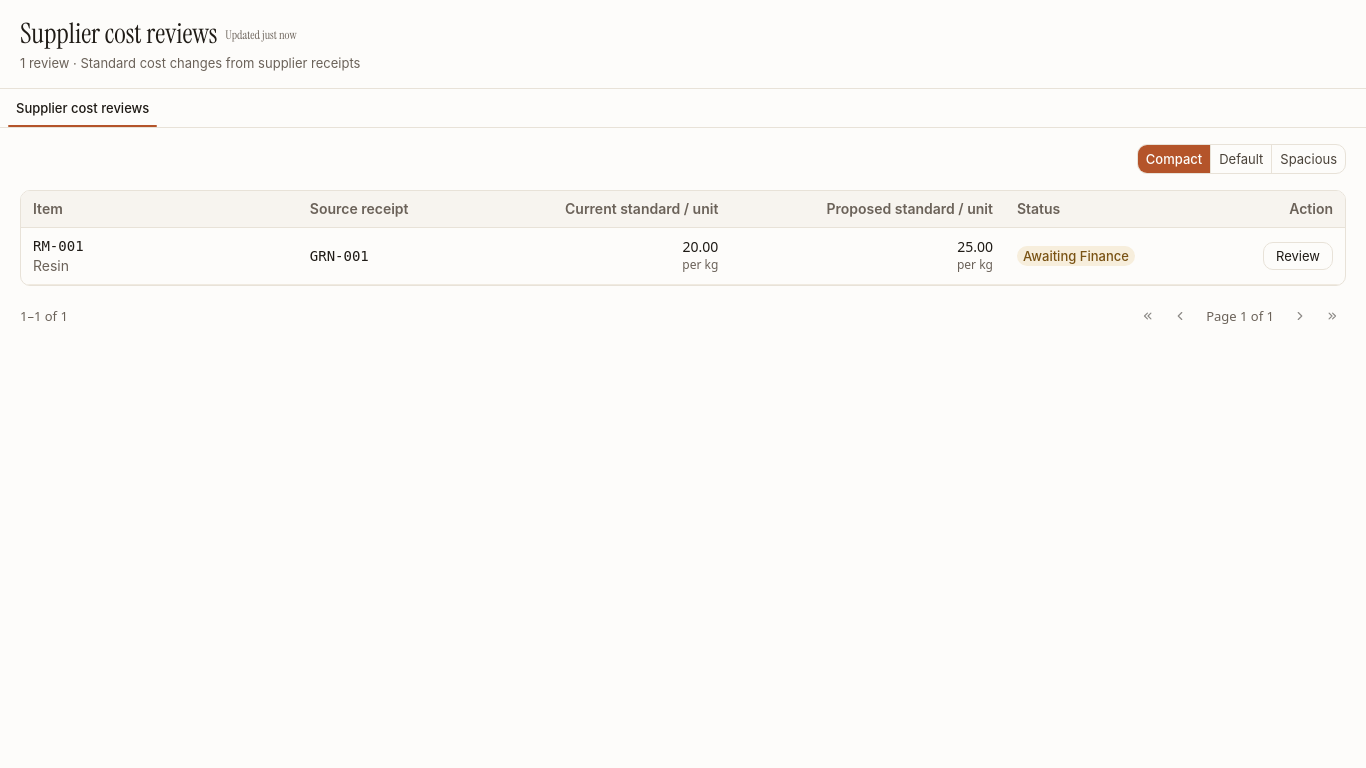
Test: preserves supplier review reason on failure and locks dialog dismissal during approval
Click the button "Review" at (1298, 256), box [1263,242,1333,270]
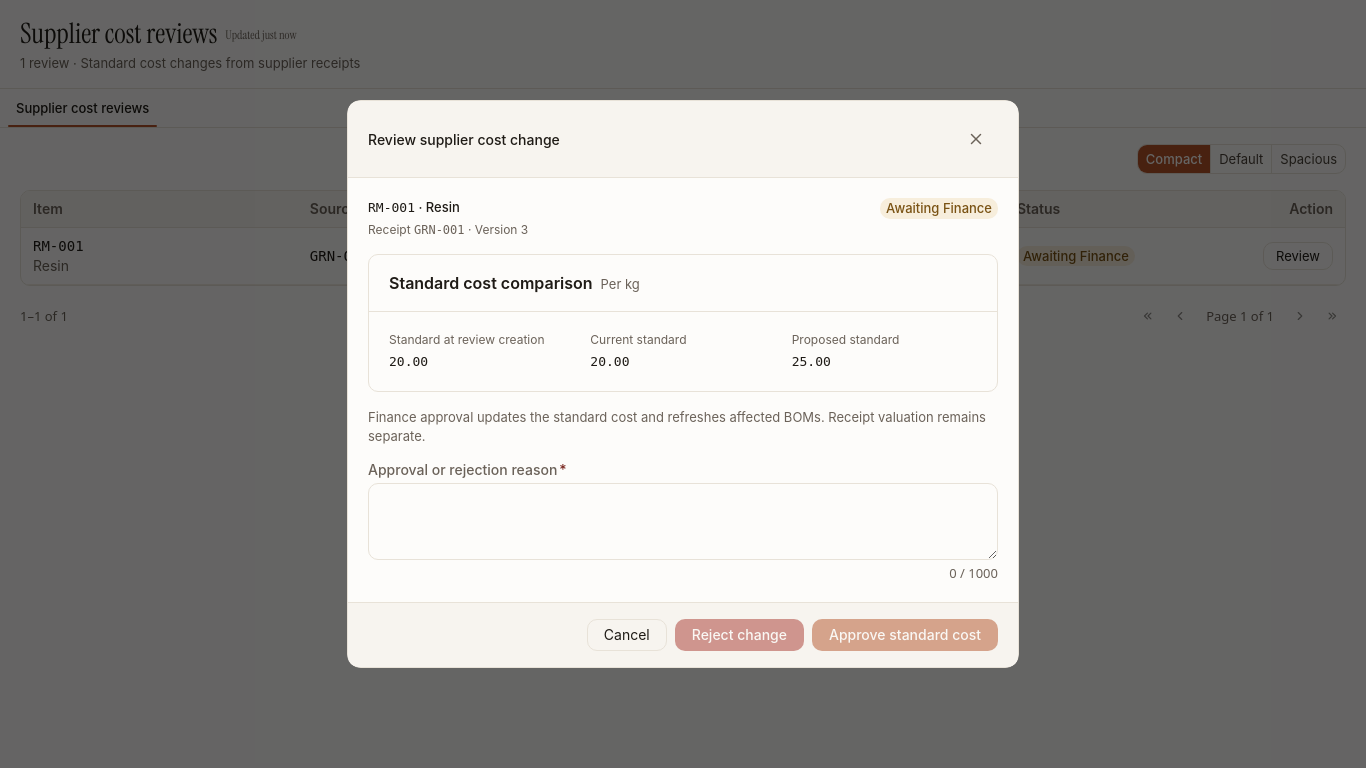
Type "Supplier resin cost increase" into the text box labelled "Approval or rejection reason*" at (683, 521), box [368,483,998,560]
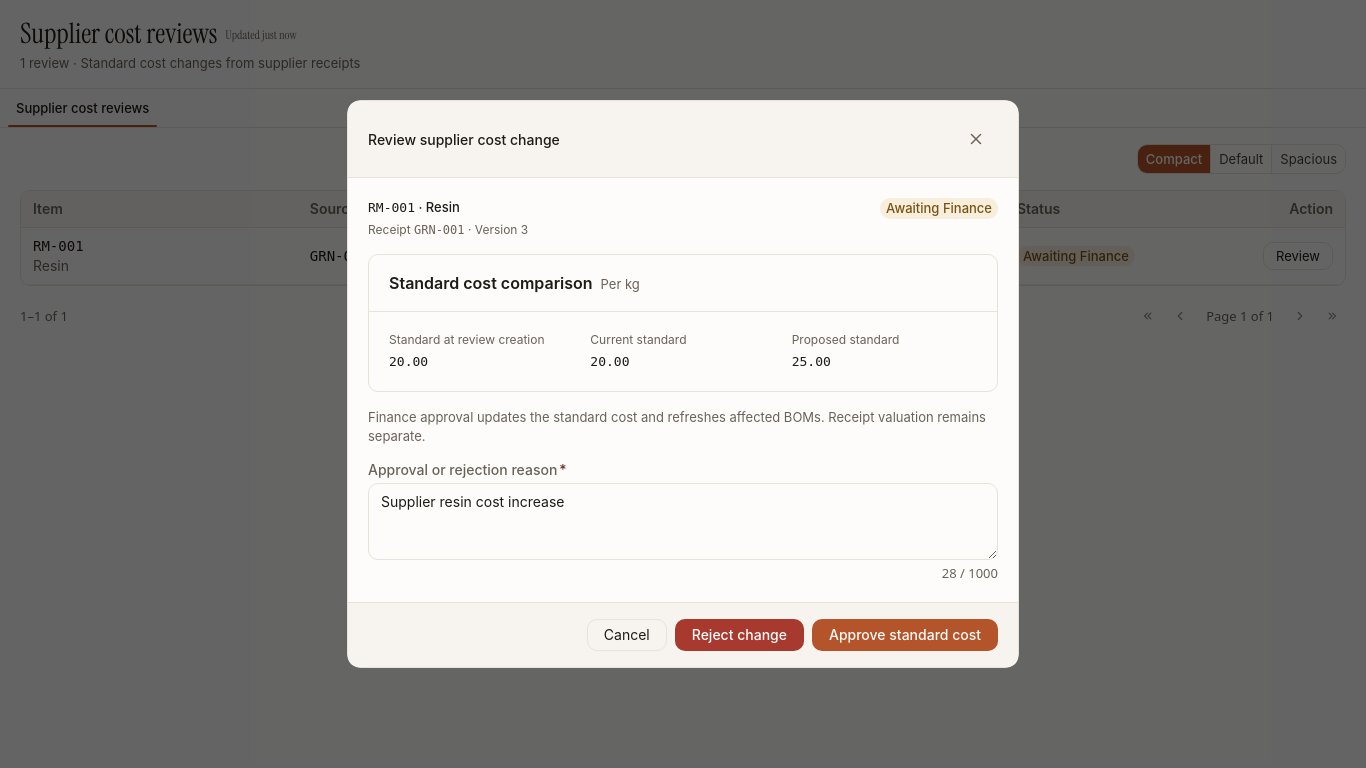
Click the button "Approve standard cost" at (905, 635), box [812,619,998,651]
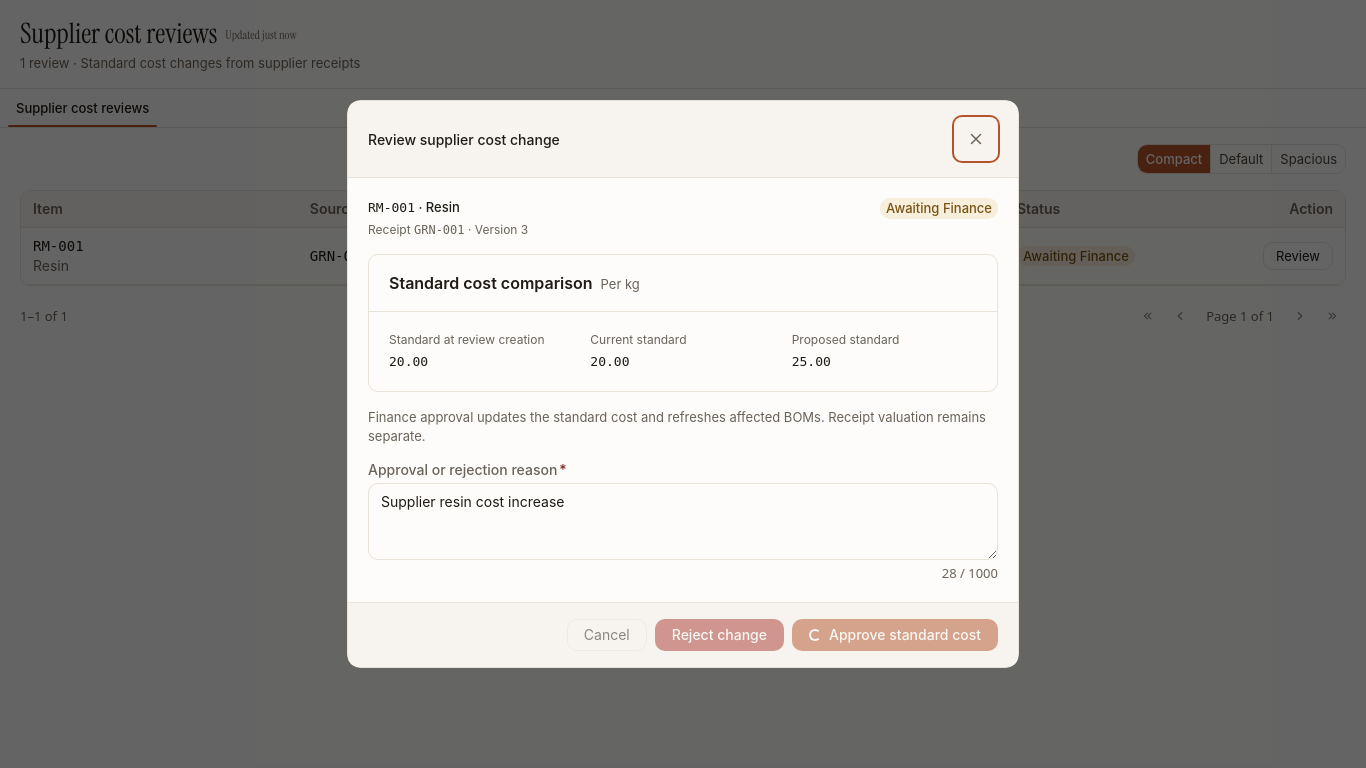
Now the button "Cancel" is disabled, box [567,619,647,651]
Press Escape
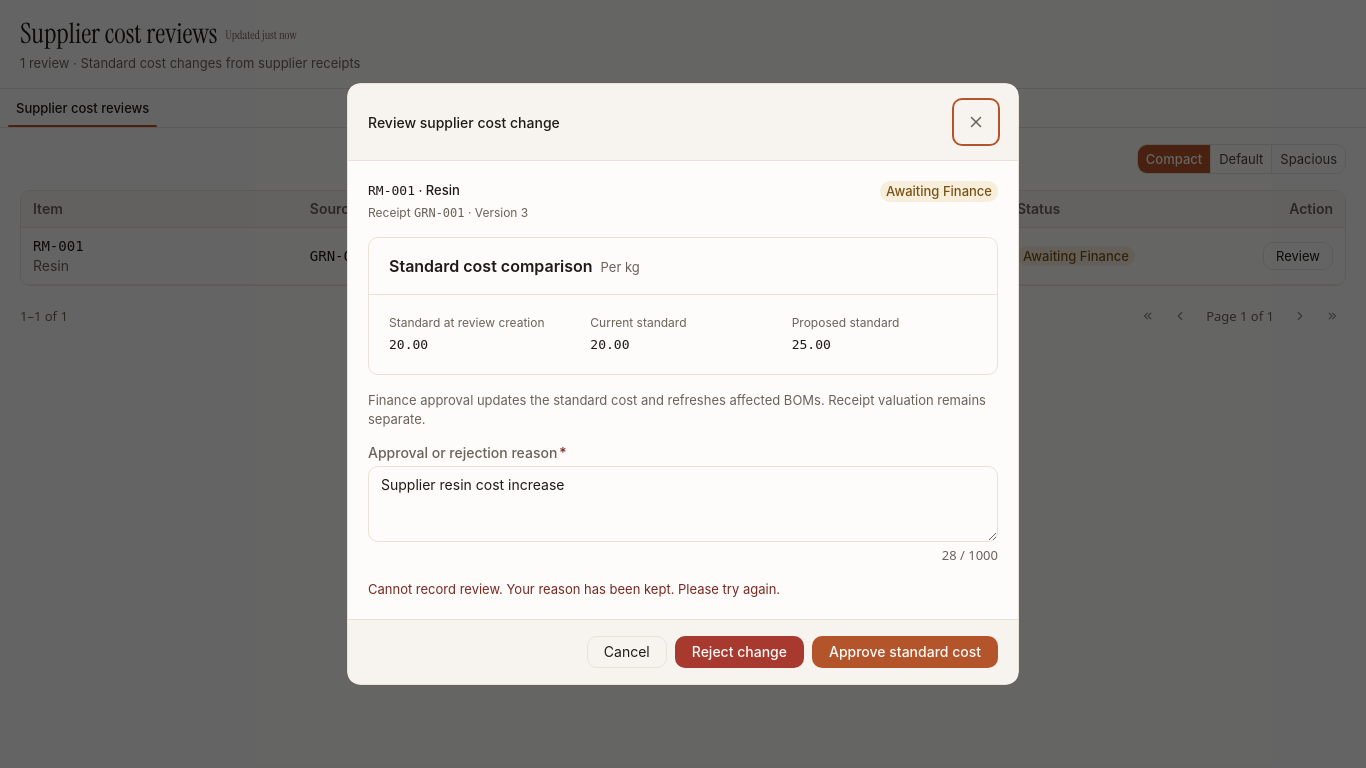
Now the dialog is shown
Now the message shows "Your reason has been kept", box [368,582,780,598]
